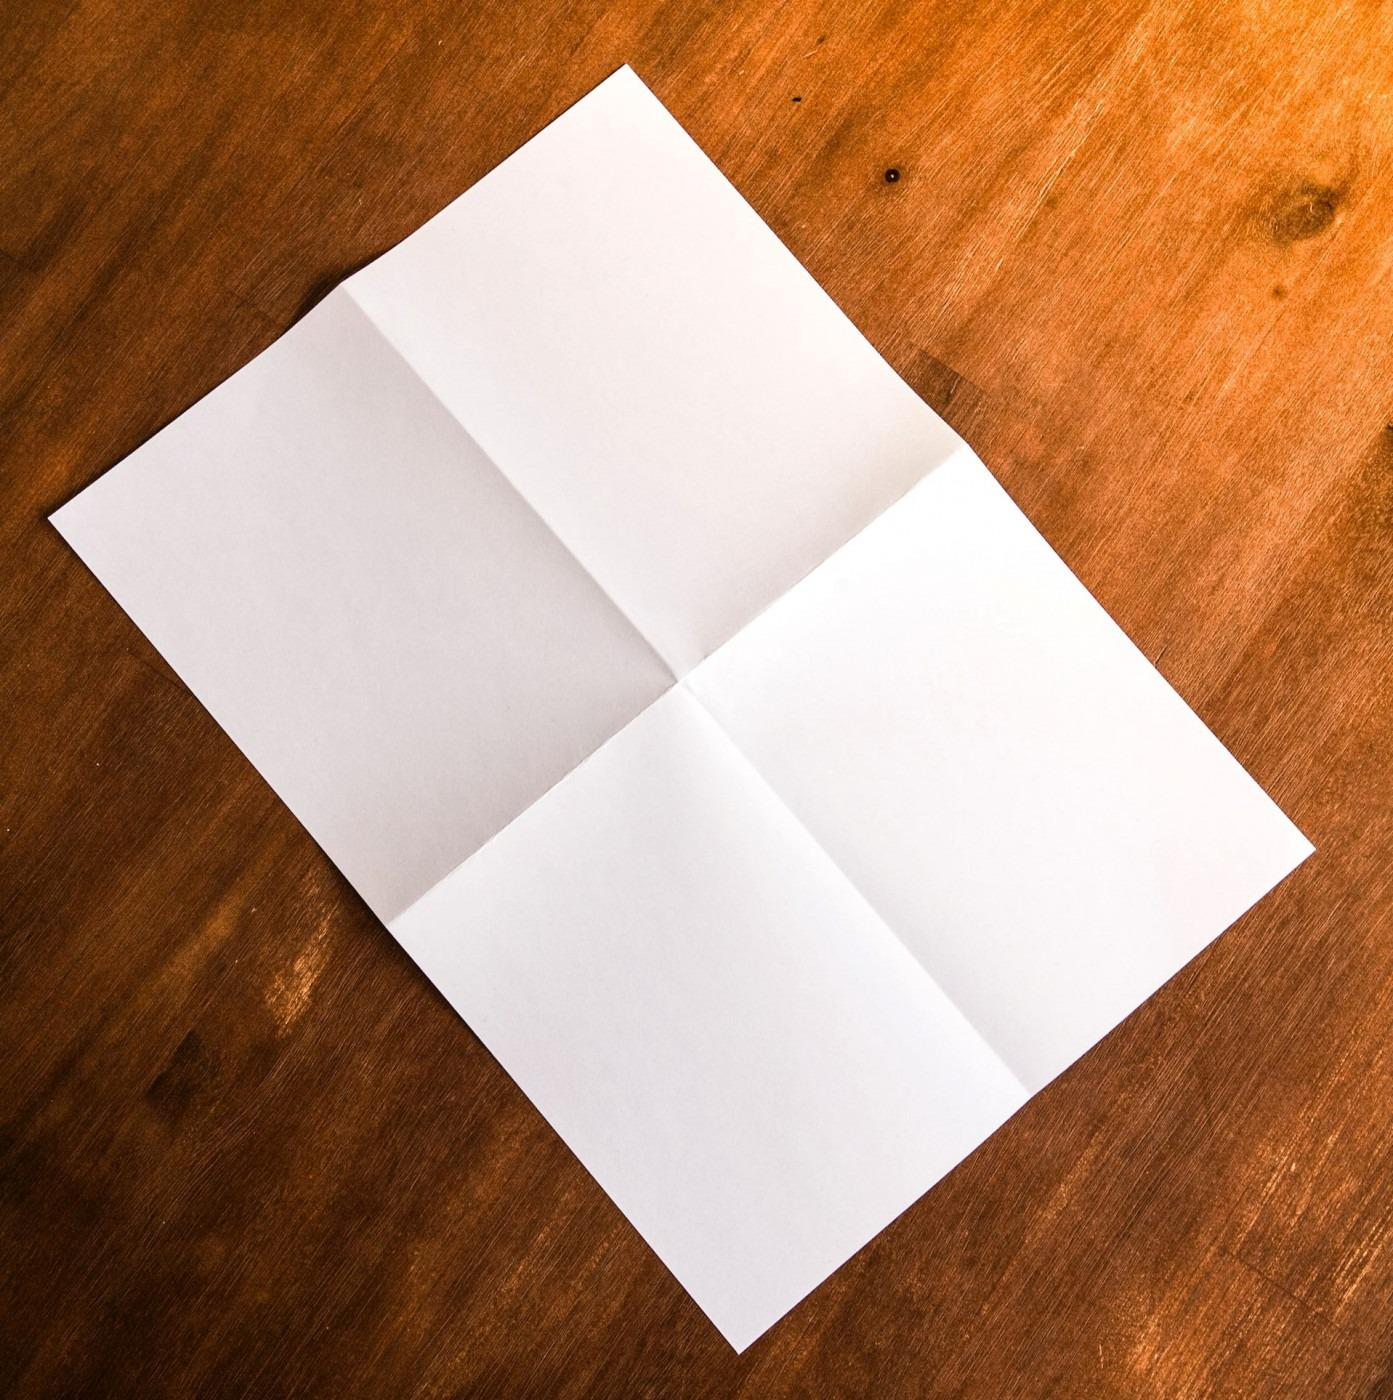plastic: (22, 27, 1336, 1374)
